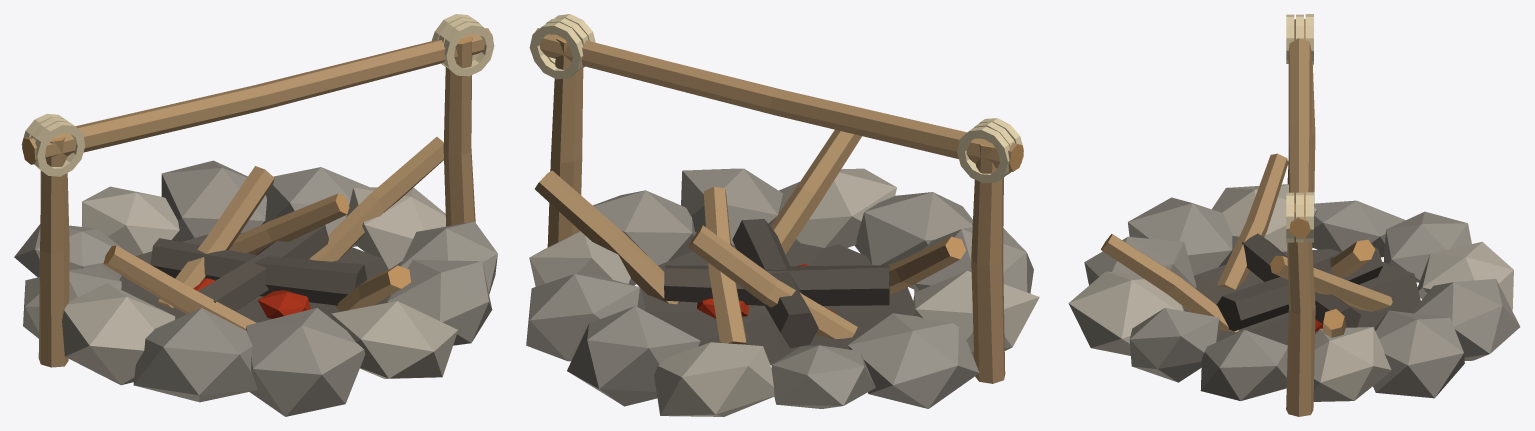
File: furniture.hearth.fbx
3 renders of one model, left to right at view 1: azimuth 30°, elevation 25°; view 2: azimuth 150°, elevation 25°; view 3: azimuth 270°, elevation 25°, orthographic. The views are drawn at different scales.
Parts seen in each view (by area): view 1: stick_bar, HEARTH_stone_8, HEARTH_stone_7, HEARTH_stone_6, HEARTH_stone_9, HEARTH_deco_log_1, HEARTH_post_l, HEARTH_stone_10, HEARTH_stone_2, HEARTH_post_r, HEARTH_stone_3, HEARTH_rope_unit_00 (+13 smaller); view 2: stick_bar, HEARTH_stone_5, HEARTH_deco_ash, HEARTH_stone_2, HEARTH_stone_3, HEARTH_post_l, HEARTH_stone_1, HEARTH_deco_log_0, HEARTH_stone_8, HEARTH_stone_4, HEARTH_stone_9, HEARTH_stone_11 (+12 smaller); view 3: HEARTH_stone_1, HEARTH_stone_9, HEARTH_stone_2, HEARTH_stone_11, HEARTH_stone_10, HEARTH_post_r, HEARTH_stone_0, HEARTH_stone_7, HEARTH_deco_ash, stick_bar, HEARTH_stone_4, HEARTH_deco_log_1 (+12 smaller).
Part boxes in pixels (x1,y1,x2,y2): stick_bar: (22, 28, 493, 164); HEARTH_stone_8: (246, 308, 365, 416); HEARTH_stone_7: (133, 308, 257, 402); HEARTH_stone_6: (62, 283, 175, 385); HEARTH_stone_9: (331, 301, 458, 378); HEARTH_deco_log_1: (150, 238, 367, 305); HEARTH_post_l: (38, 136, 69, 367); HEARTH_stone_10: (387, 259, 492, 345); HEARTH_stone_2: (161, 160, 266, 241); HEARTH_post_r: (443, 36, 475, 226); HEARTH_stone_3: (82, 186, 179, 255); HEARTH_rope_unit_00: (21, 14, 494, 176); stick_bar: (534, 28, 1023, 171); HEARTH_stone_5: (848, 313, 979, 408); HEARTH_deco_ash: (638, 240, 913, 365); HEARTH_stone_2: (567, 306, 700, 406); HEARTH_stone_3: (654, 342, 774, 416); HEARTH_post_l: (971, 143, 1005, 383); HEARTH_stone_1: (526, 274, 645, 361); HEARTH_deco_log_0: (664, 265, 889, 305); HEARTH_stone_8: (854, 192, 972, 289); HEARTH_stone_4: (771, 345, 875, 408); HEARTH_stone_9: (779, 168, 896, 247); HEARTH_stone_11: (593, 190, 695, 265); HEARTH_stone_1: (1373, 310, 1464, 398); HEARTH_stone_9: (1068, 271, 1184, 355); HEARTH_stone_2: (1411, 278, 1520, 360); HEARTH_stone_11: (1200, 330, 1287, 400); HEARTH_stone_10: (1129, 308, 1219, 382); HEARTH_post_r: (1286, 203, 1315, 416); HEARTH_stone_0: (1313, 327, 1391, 401); HEARTH_stone_7: (1128, 197, 1233, 275); HEARTH_deco_ash: (1183, 249, 1420, 345); stick_bar: (1288, 18, 1311, 237); HEARTH_stone_4: (1384, 211, 1471, 282); HEARTH_deco_log_1: (1216, 246, 1383, 331).
Size of the model in its own units: 0.64 by 0.3493 by 0.6104.
